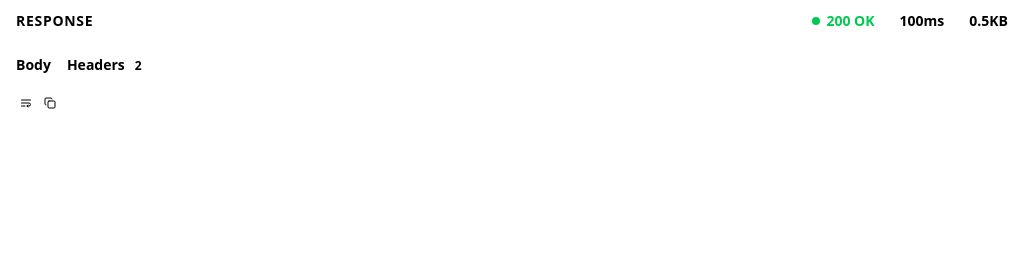
Test: ResponsePanel › should switch to headers tab and show header table
What coordinates should you click on to do the following:
click the button with test id "response-tab-headers"
I would click on:
 (107, 65)
Its box is [67,45,148,85].
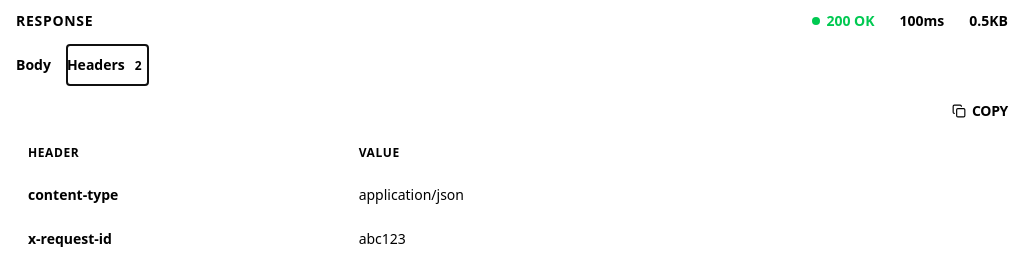
expect the text "content-type" is shown: met, box [16,173,347,217]
expect the text "application/json" is shown: met, box [347,173,1008,217]
expect the text "x-request-id" is shown: met, box [16,217,347,261]
